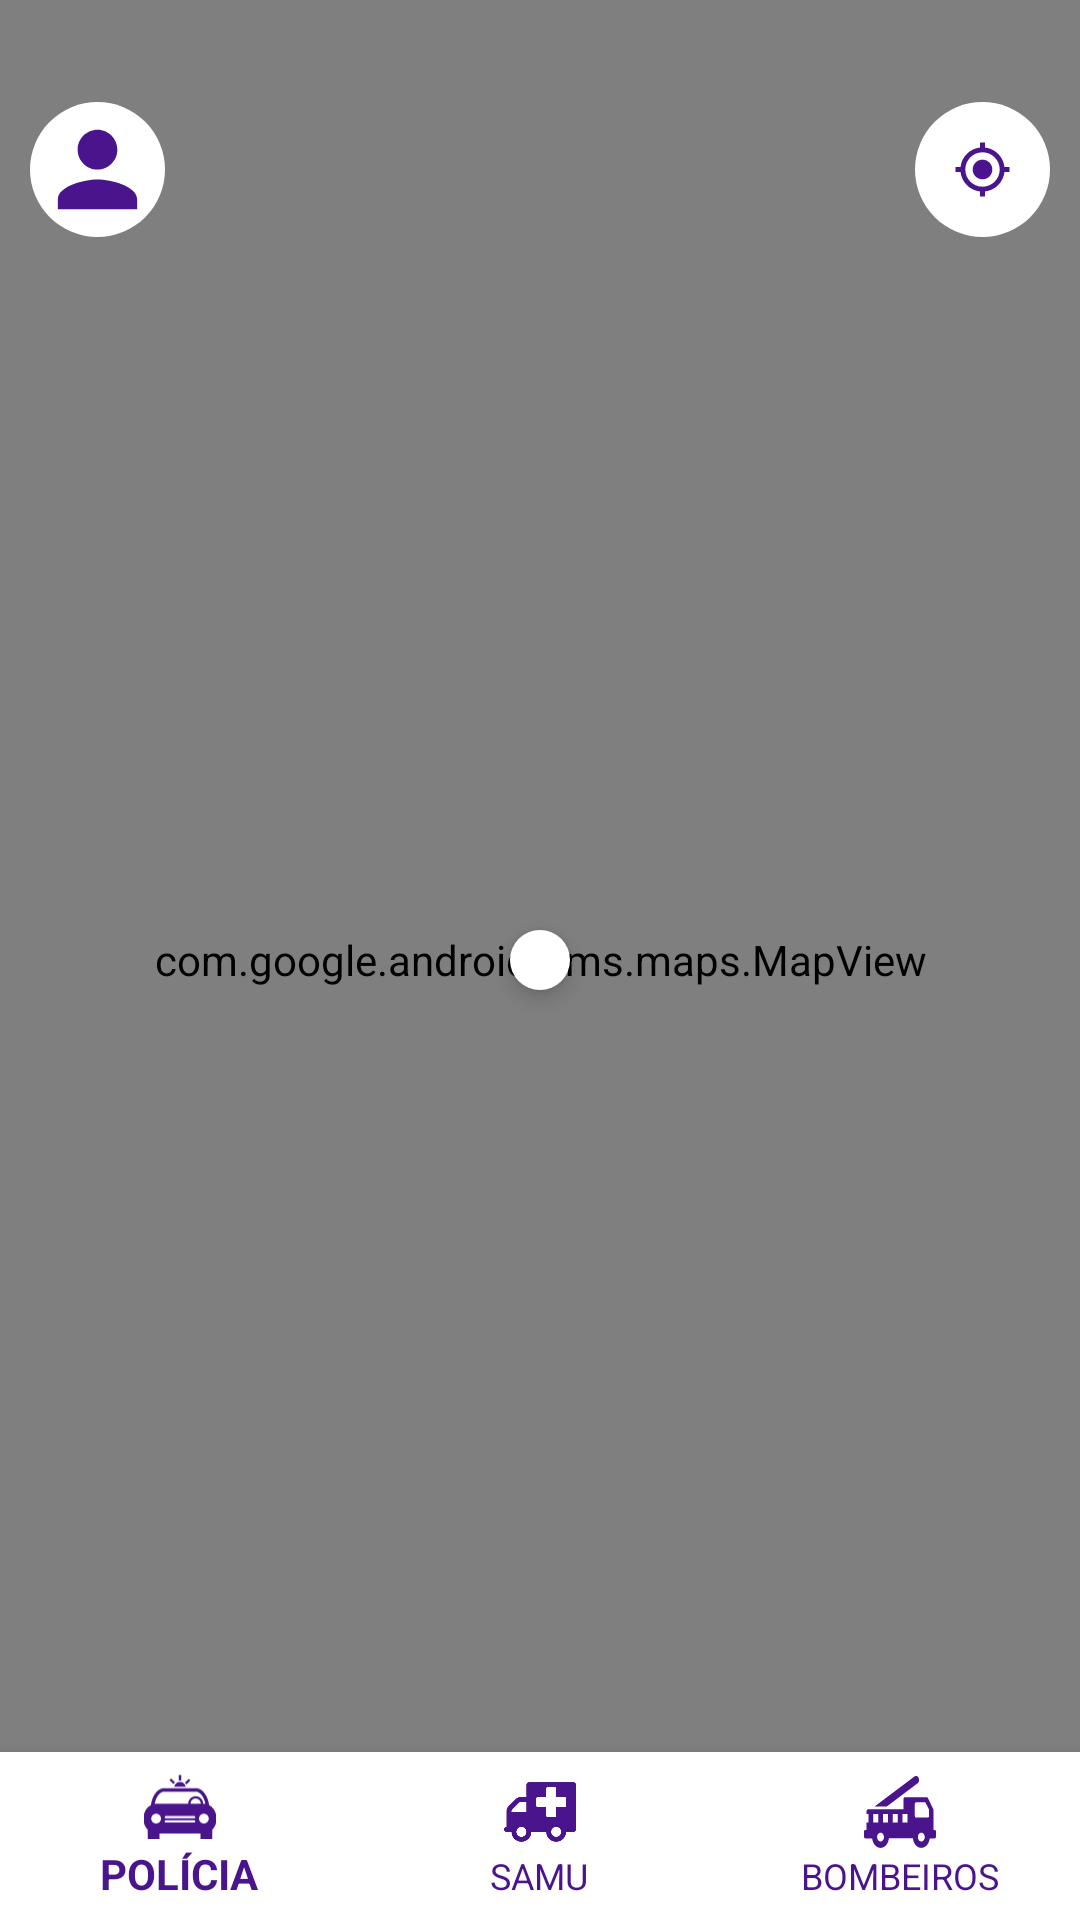

Screen size 1080 × 1920. Icon name, then its center in pixels as (x=x, y=y):
location: (x=982, y=169)
